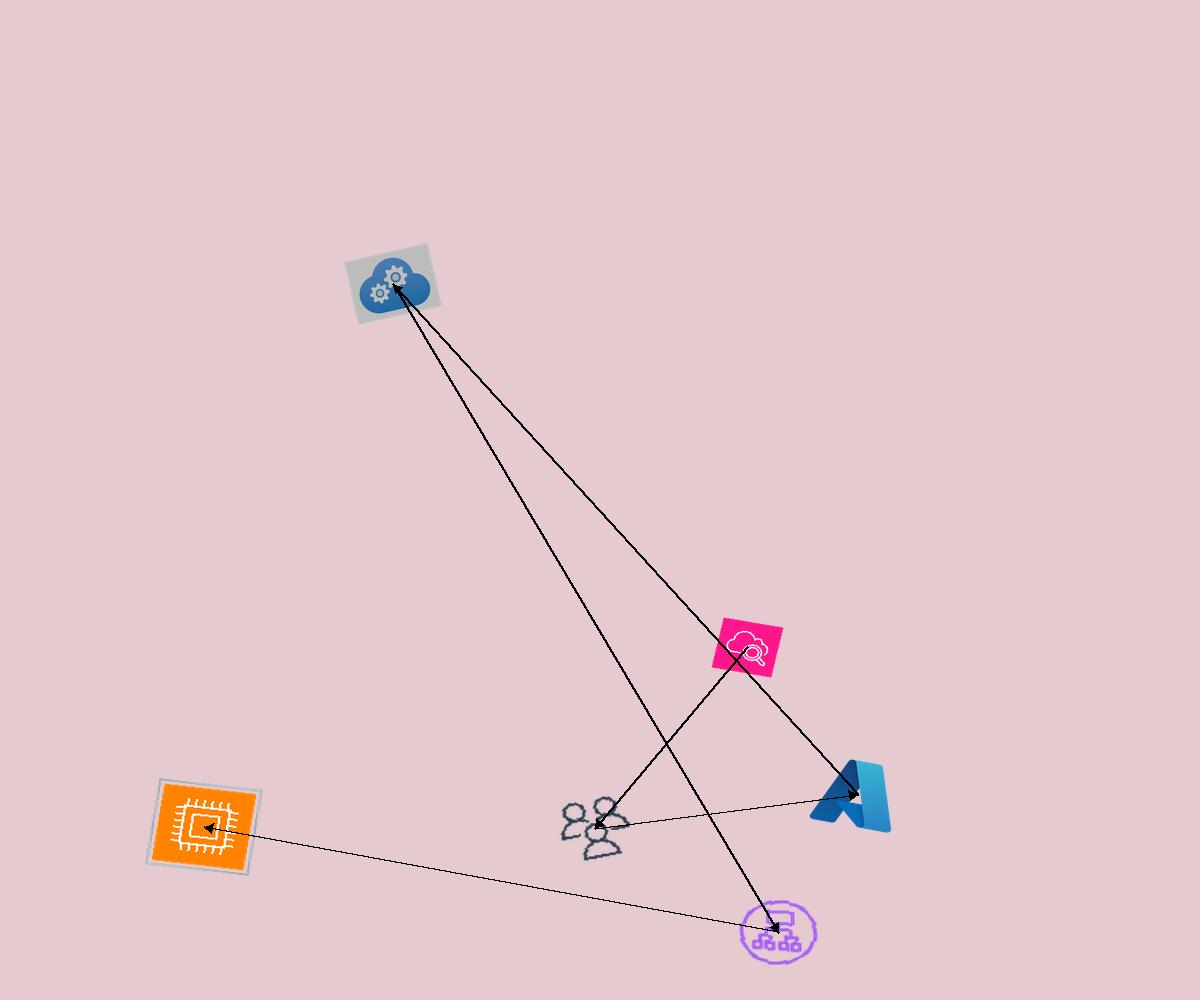AWS-Category_Compute: (145, 778, 263, 876)
AWS-CloudWatch: (711, 617, 784, 678)
AWS-Res_Elastic-Load-Balancing_Application-Load-Balancer: (731, 893, 826, 972)
AWS-Res_Users: (549, 790, 641, 867)
Azure_cloud_services: (344, 243, 442, 325)
Azure_services: (804, 749, 912, 839)
